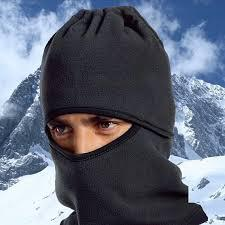WRONG: (46, 107, 153, 214)
